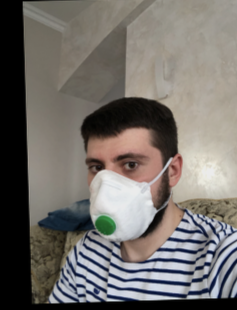with_mask: (87, 142, 156, 243)
